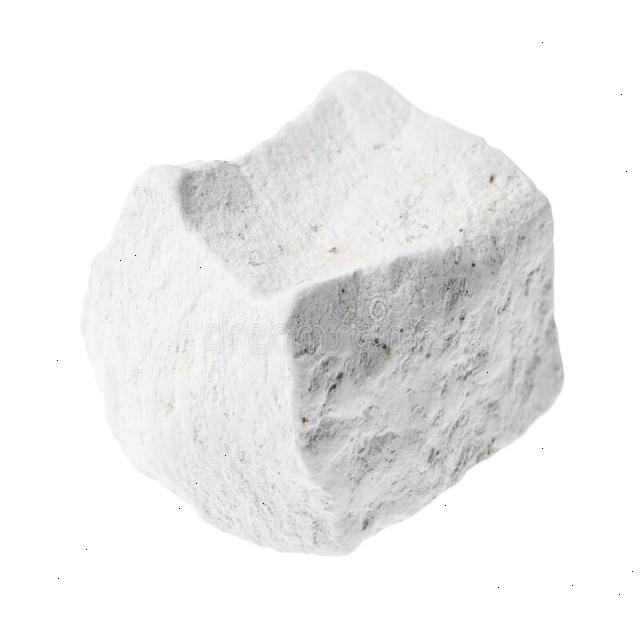Sedimentary: (76, 72, 581, 550)
